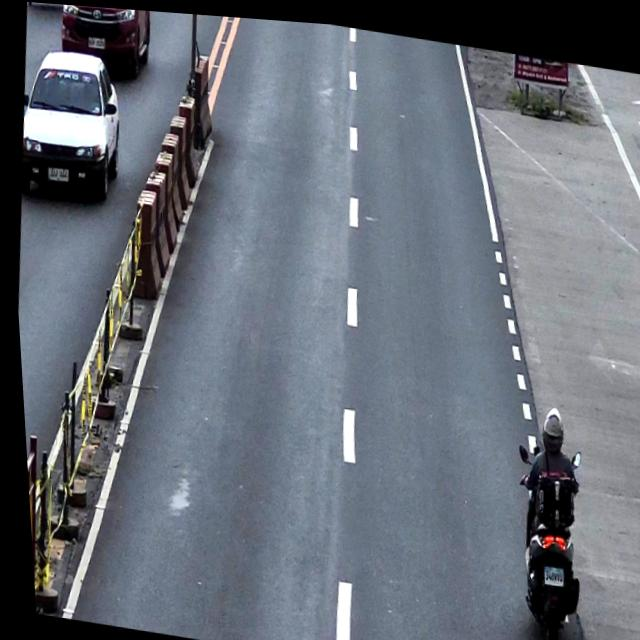Car: (12, 41, 130, 206), (54, 3, 158, 87)
License-Plate: (534, 557, 558, 581), (44, 164, 68, 182), (85, 33, 106, 49)
Motorcycle: (496, 431, 587, 634)
